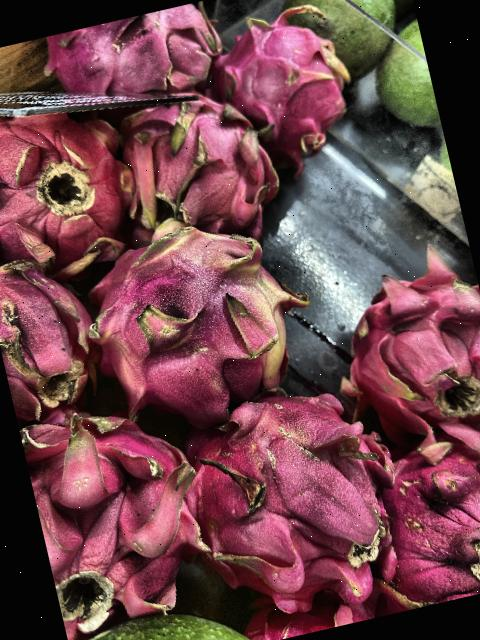buah-naga-belum-matang: (80, 200, 328, 430)
buah-naga-matang: (155, 364, 406, 624), (18, 396, 204, 634), (114, 80, 286, 252), (326, 259, 480, 450), (0, 78, 138, 283), (354, 405, 480, 612), (210, 7, 364, 176), (50, 0, 243, 122), (0, 239, 115, 425)
